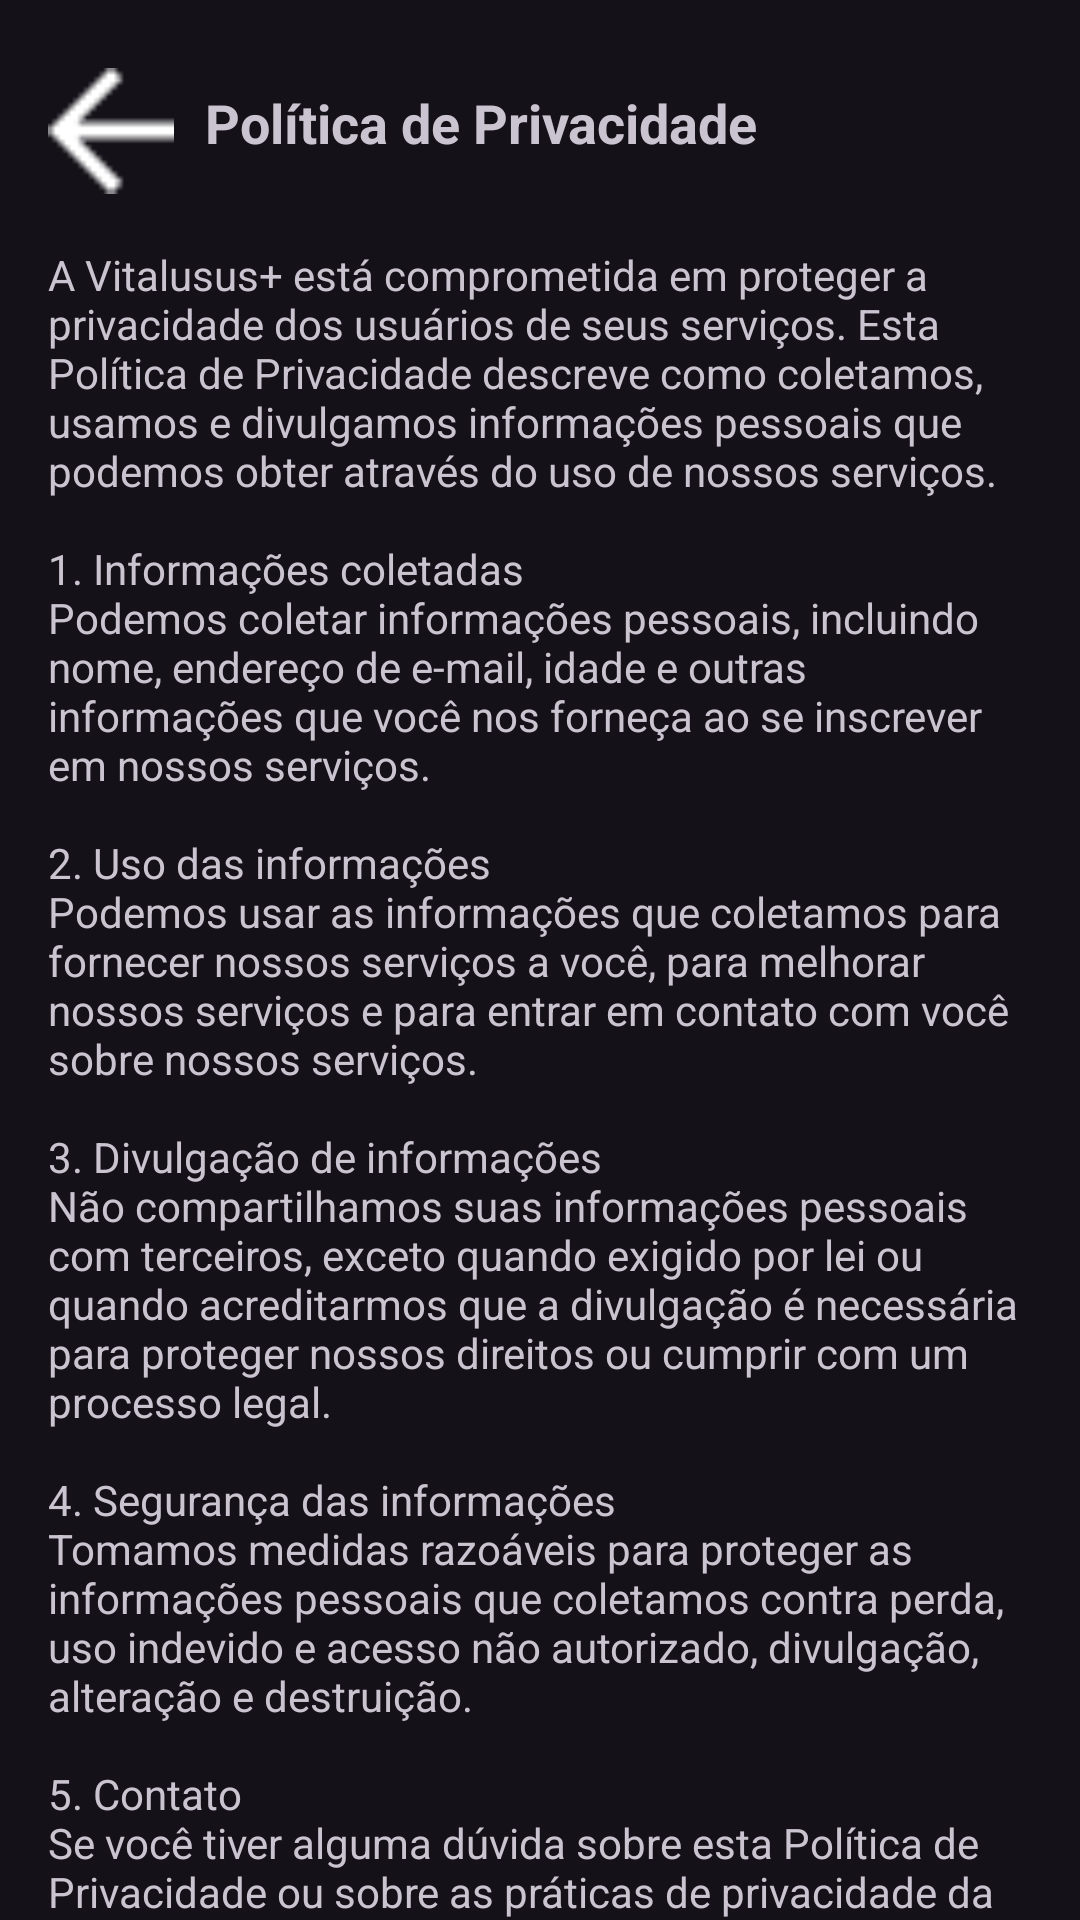

Named icons in this screenshot (1080*1920) and their bounding boxes, (x1, y1, x2, y2):
seta: (48, 68, 174, 194)
